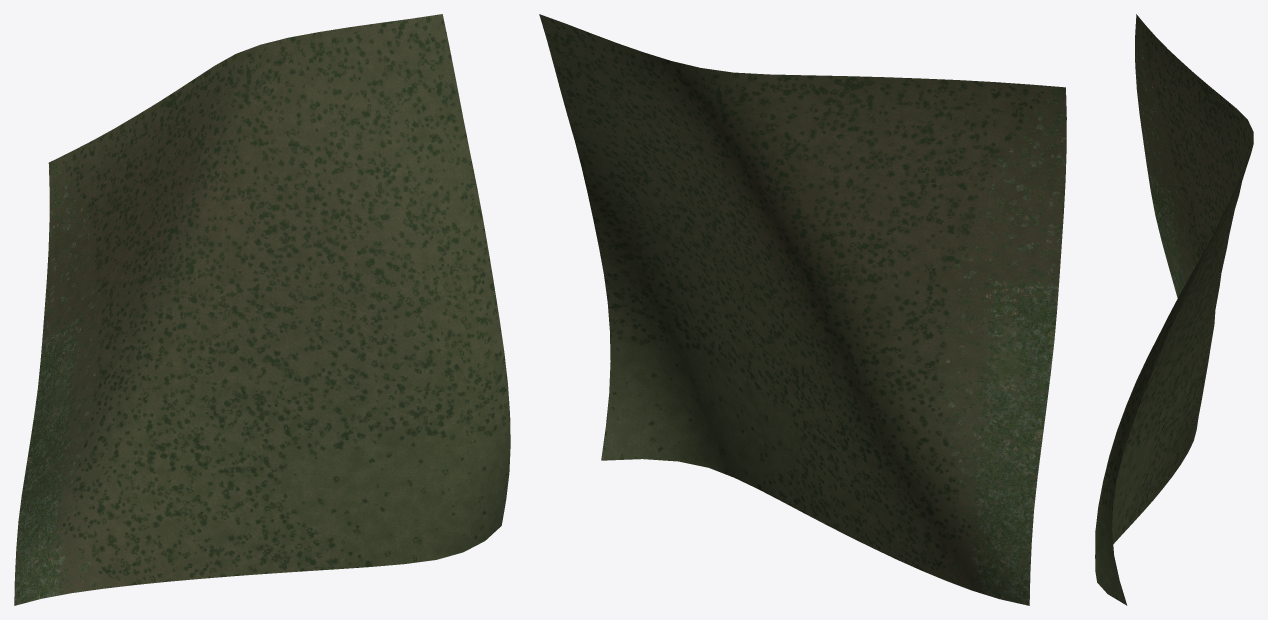
File: terrain_mid_05_04.obj
The picture shows the model from 3 angles, left to right: view 1: azimuth 30°, elevation 25°; view 2: azimuth 150°, elevation 25°; view 3: azimuth 270°, elevation 25°; orthographic projection. The views are drawn at different scales.
Visible parts, largest first — view 1: terrain_mid_05_04; view 2: terrain_mid_05_04; view 3: terrain_mid_05_04.
Boxes of the visible parts, x1=… form: terrain_mid_05_04: x1=14, y1=14, x2=510, y2=605; terrain_mid_05_04: x1=539, y1=14, x2=1066, y2=605; terrain_mid_05_04: x1=1095, y1=14, x2=1253, y2=605.
Bounding box in the file's own units: 320 × 320 × 114.
1 material, 1 textured.
